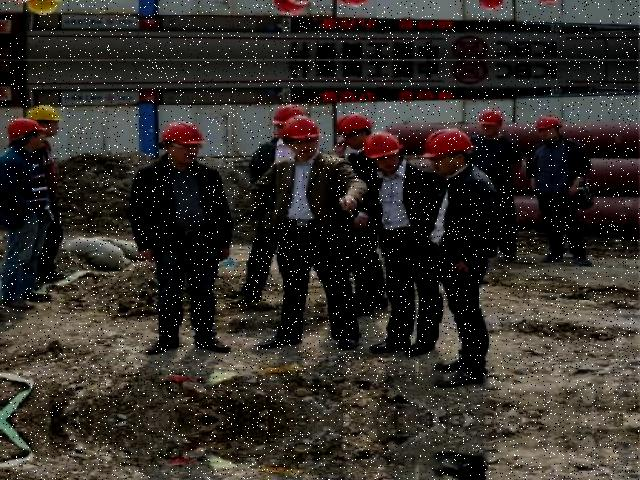Helmet: (423, 124, 478, 165), (155, 116, 210, 154), (362, 128, 410, 167), (1, 115, 49, 148), (283, 110, 326, 146), (338, 110, 380, 140), (22, 100, 66, 127), (473, 106, 512, 132), (532, 110, 571, 132)
